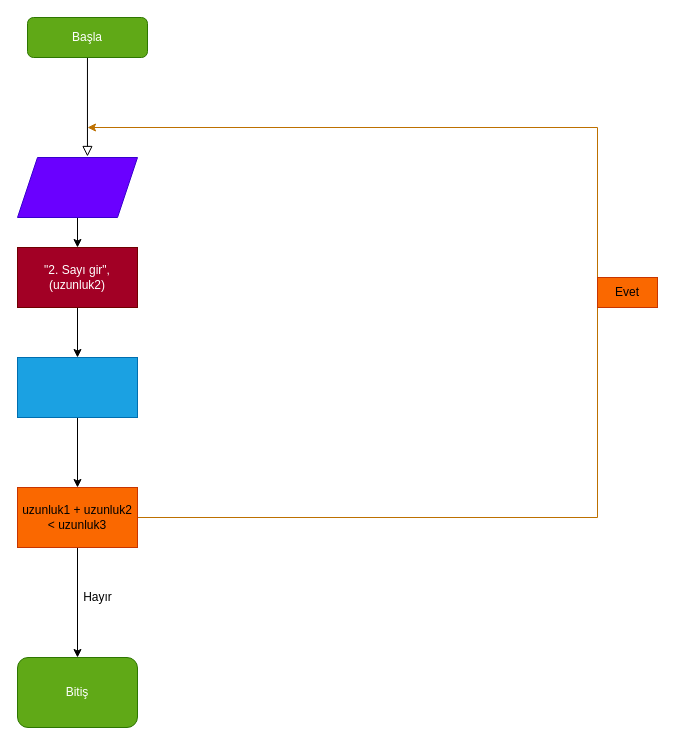
Image size: 675x745. Some labels were removed from this diagram. Each missing label, with the centre of its shape:
"3. uzunluk",(uzunluk3): [77,387]
"Sayı gir",(uzunluk1): [77,187]
